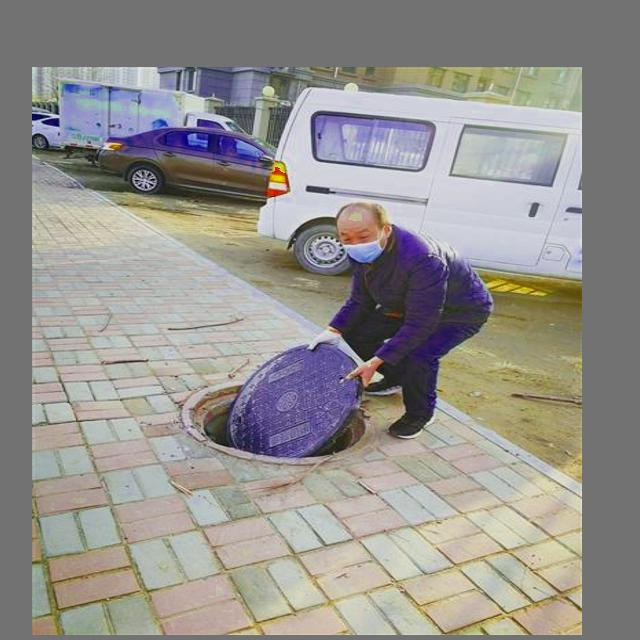uncovered: (157, 325, 385, 479)
